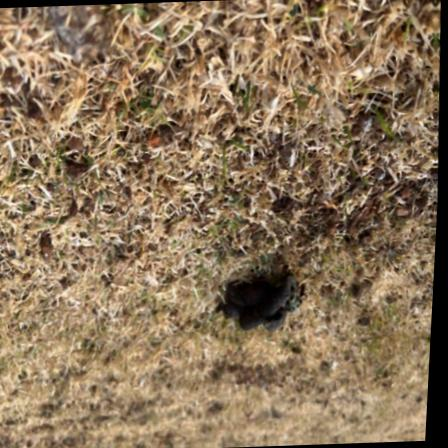dog-poop: (220, 258, 316, 335)
